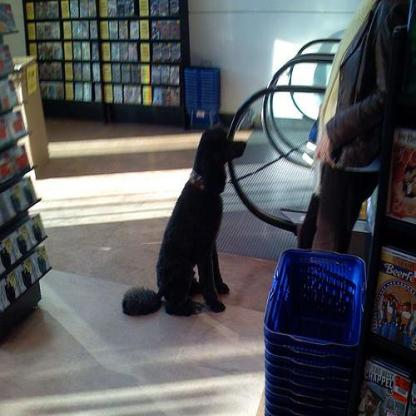standard_poodle: (114, 107, 245, 318)
